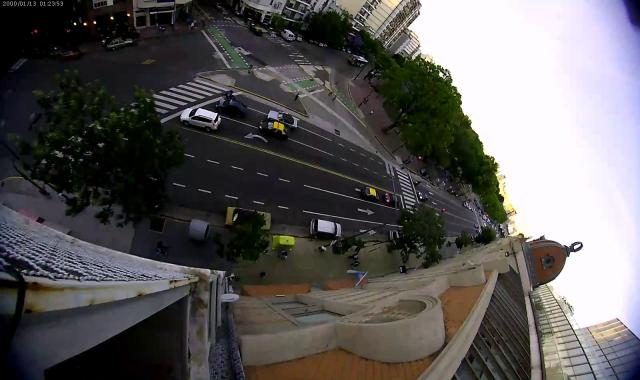bus: (348, 54, 368, 68)
car: (224, 206, 272, 233), (179, 107, 223, 132), (215, 100, 250, 119), (258, 120, 290, 140), (309, 219, 342, 238), (267, 110, 298, 128), (106, 37, 134, 51), (58, 48, 82, 60), (361, 187, 380, 202), (384, 193, 400, 206), (280, 29, 294, 41), (249, 26, 263, 37), (418, 192, 429, 202), (389, 230, 399, 240), (296, 35, 302, 42), (309, 38, 314, 44), (314, 39, 319, 44), (292, 35, 296, 41), (318, 42, 324, 46), (463, 202, 468, 206), (474, 223, 478, 228), (476, 229, 480, 234), (468, 206, 472, 210), (467, 204, 470, 208), (472, 208, 475, 212), (482, 215, 486, 218), (484, 222, 487, 226), (324, 44, 327, 47), (483, 219, 485, 222)
